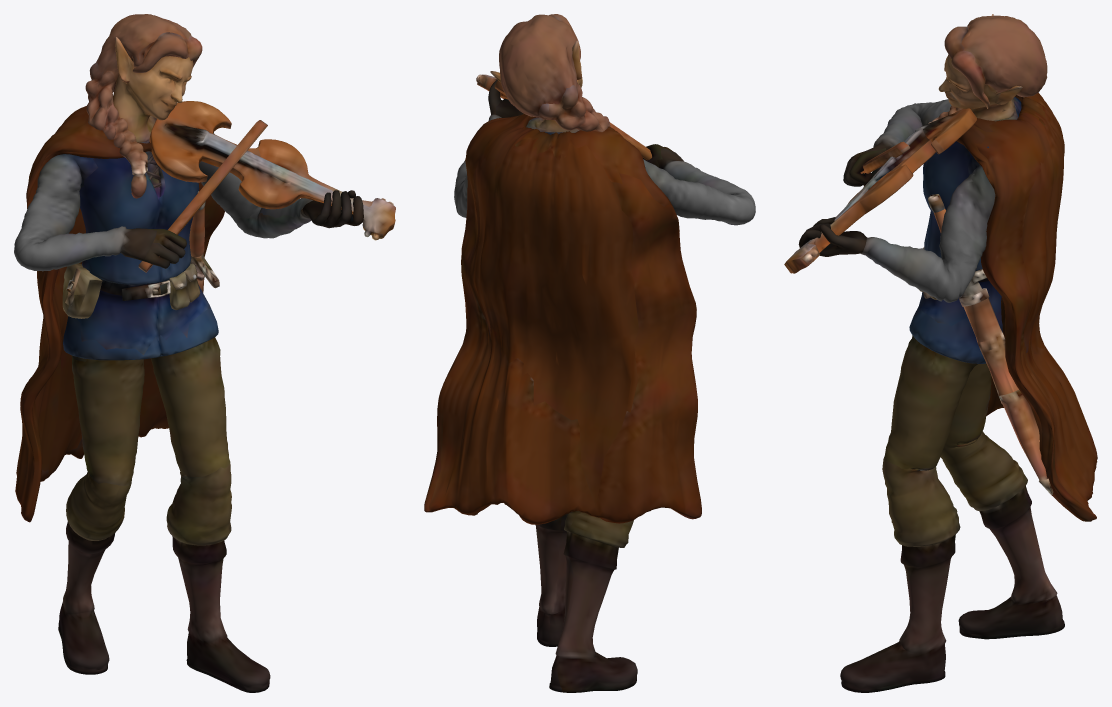
Rendered from MZ4250 - Elf Female Bard_1.glb.
3 views of the same model, side by side, from view 1: azimuth 30°, elevation 25°; view 2: azimuth 150°, elevation 25°; view 3: azimuth 270°, elevation 25° (orthographic). The views are drawn at different scales.
Visible parts, largest first — view 1: Shortsword in sheath 2.001; view 2: Shortsword in sheath 2.001; view 3: Shortsword in sheath 2.001.
Part boxes in pixels (box(x1,y1,x2,y2)): Shortsword in sheath 2.001: box(14, 14, 395, 692); Shortsword in sheath 2.001: box(424, 14, 755, 692); Shortsword in sheath 2.001: box(784, 14, 1097, 692).
Bounding box in the file's own units: 48.51 × 90.65 × 39.79.
1 material, 1 textured.
